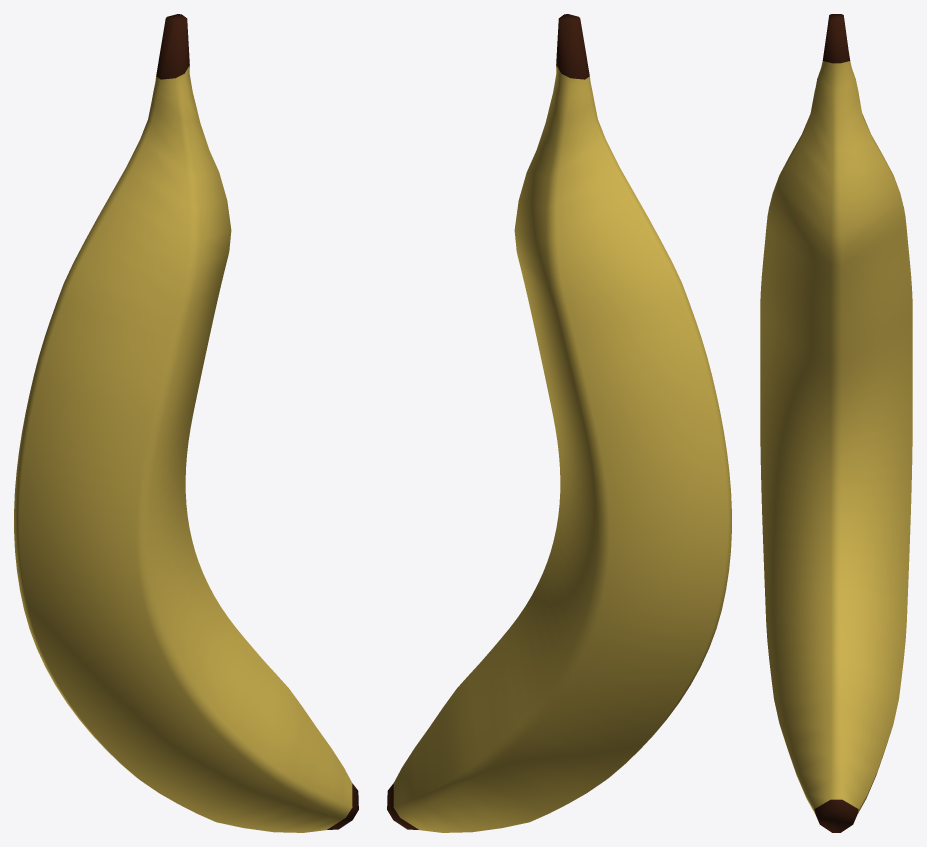
The model's file is Banana.fbx.
The picture shows the model from 3 angles, left to right: view 1: azimuth 30°, elevation 25°; view 2: azimuth 150°, elevation 25°; view 3: azimuth 270°, elevation 25°; orthographic projection. The views are drawn at different scales.
Visible parts, largest first — view 1: NurbsPath; view 2: NurbsPath; view 3: NurbsPath.
Boxes of the visible parts, x1=… form: NurbsPath: x1=14, y1=14, x2=358, y2=832; NurbsPath: x1=387, y1=14, x2=731, y2=832; NurbsPath: x1=760, y1=14, x2=912, y2=832.
Bounding box in the file's own units: 191 × 459 × 84.89.
